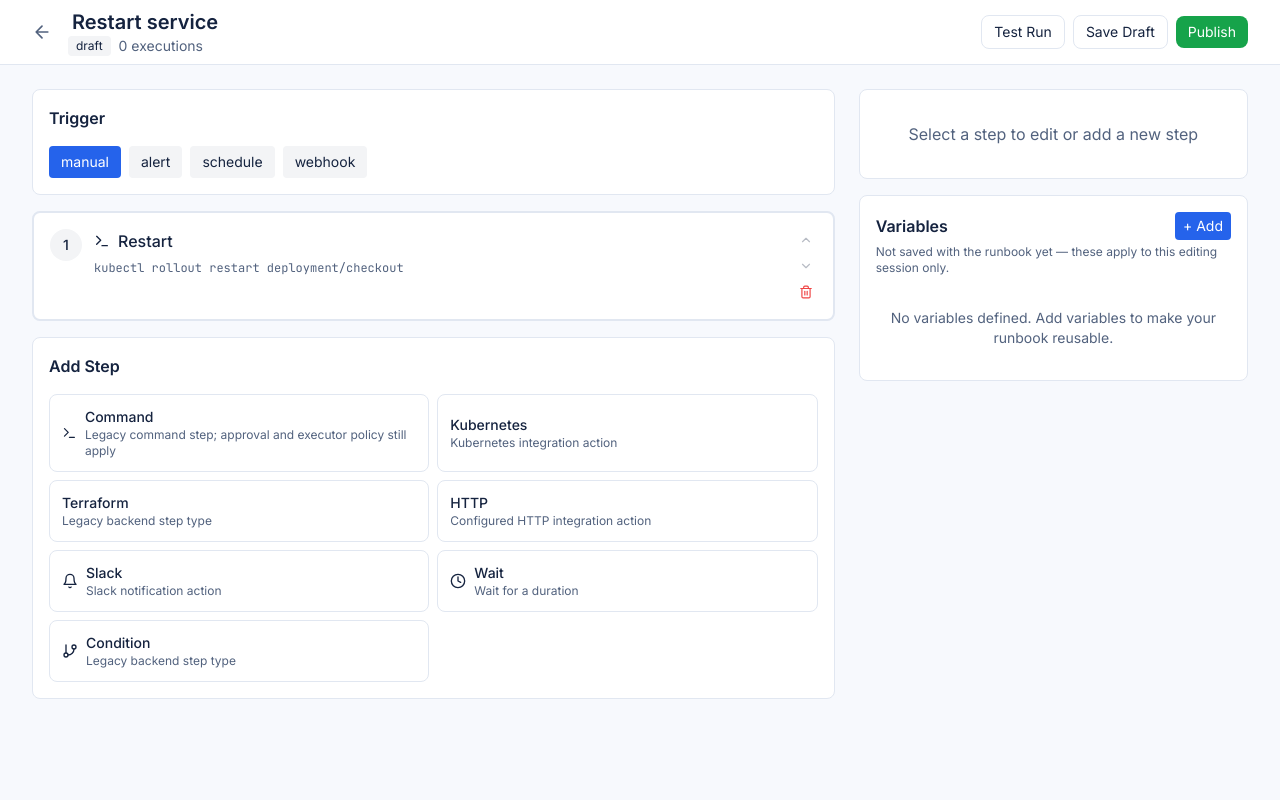
Test: RunbookBuilder actions › Publish saves the runbook with enabled set
Expected: the text "draft" is shown, 68,36 -> 111,56
Click the button "Publish" at (1212, 32), box 1176,16 -> 1248,48
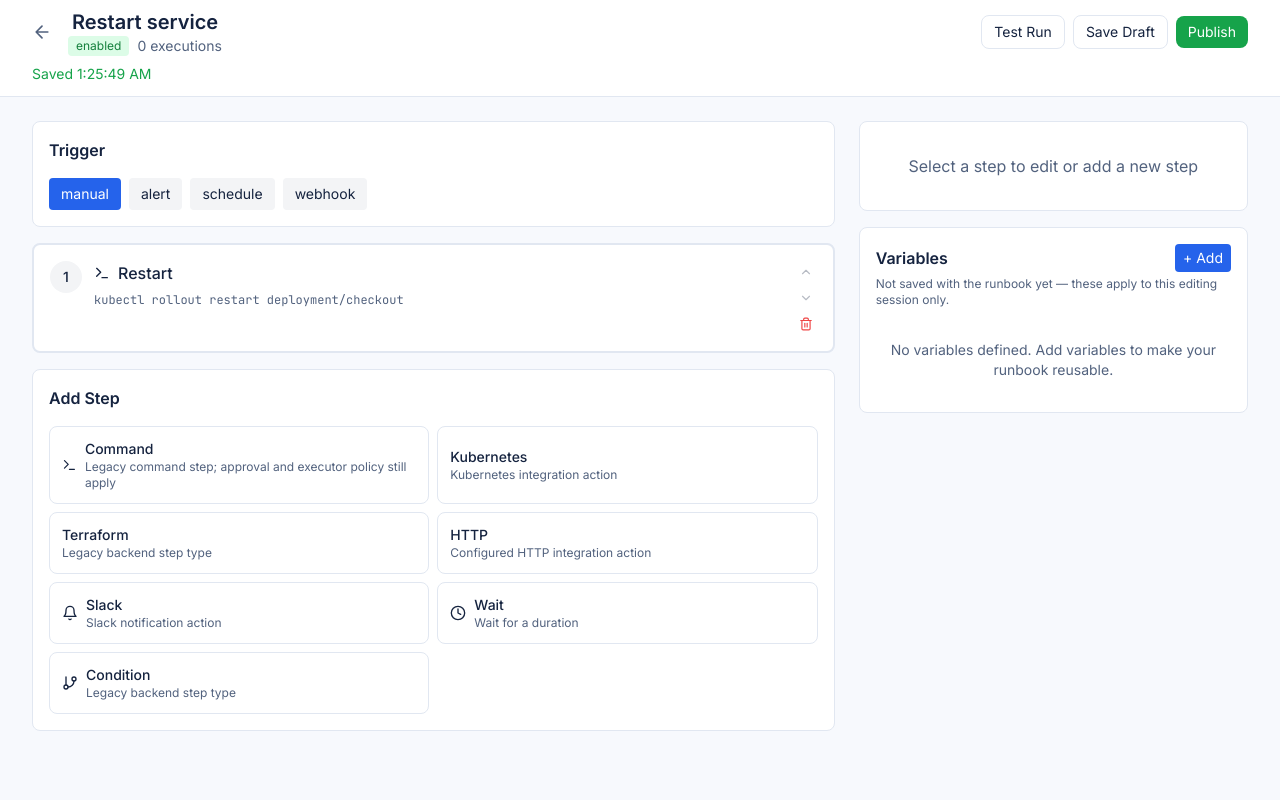
Expected: the text "enabled" is shown, 68,36 -> 129,56
